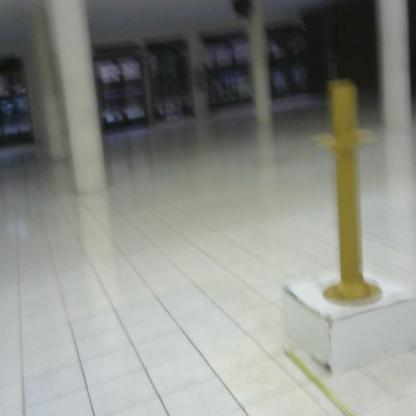pole: (304, 69, 396, 310)
